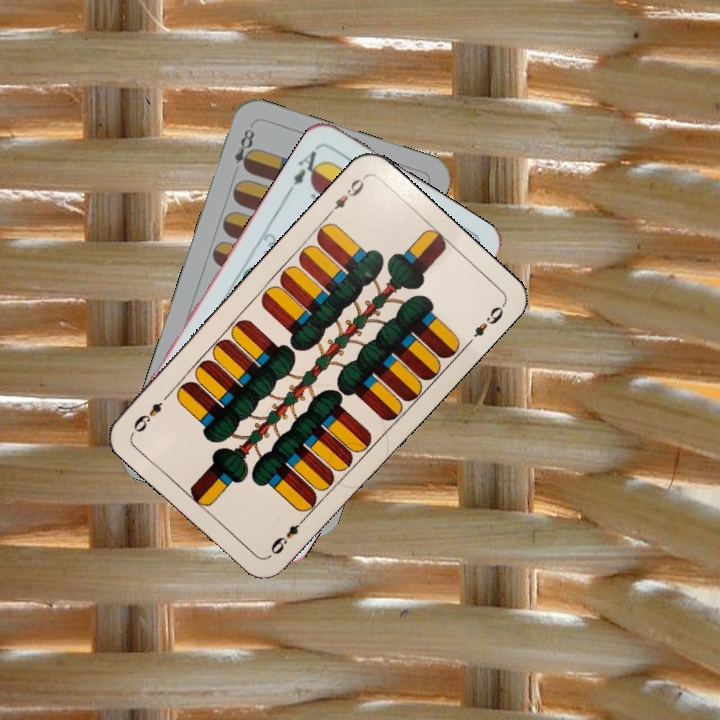E8: (230, 122, 258, 174)
E9: (323, 172, 369, 219), (265, 512, 309, 560)
EA: (289, 146, 328, 189)
